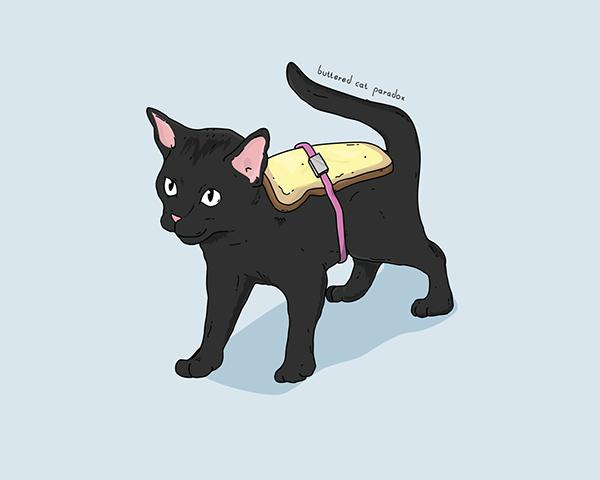cat: (78, 77, 455, 385)
